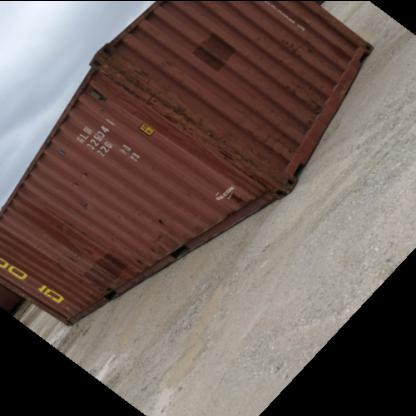Damage: (92, 62, 181, 112), (178, 113, 249, 169), (83, 250, 127, 304), (281, 70, 335, 108), (63, 163, 104, 211), (139, 217, 179, 263), (38, 216, 90, 248), (270, 34, 316, 60), (245, 166, 278, 194), (262, 130, 294, 158), (207, 194, 242, 210)
